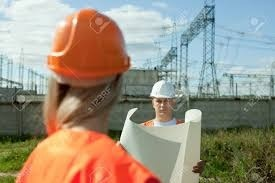helmet: (43, 7, 134, 84), (133, 78, 198, 132), (147, 78, 180, 101)
person with partial safety: (17, 7, 160, 182)
